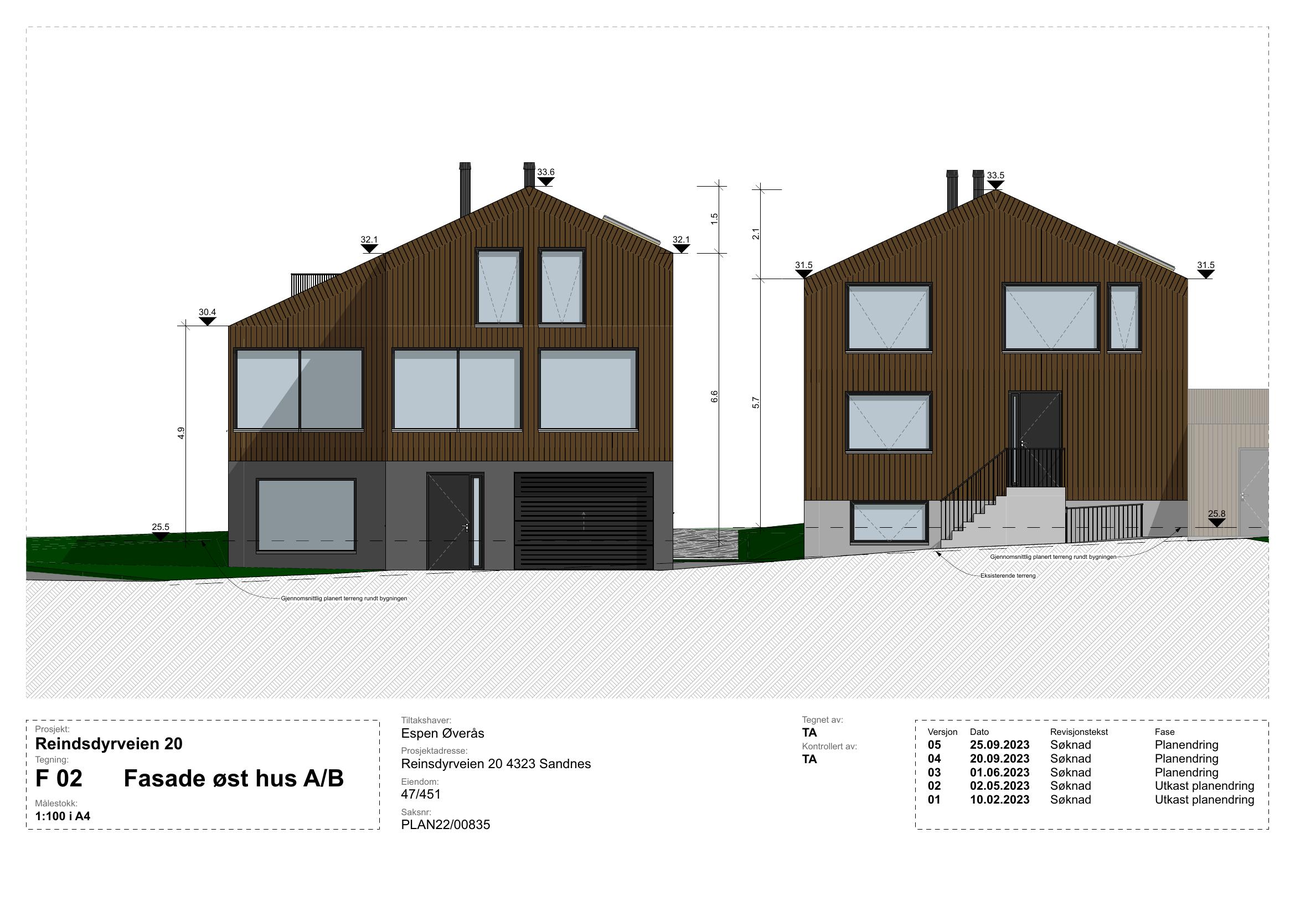fasade: (735, 168, 1270, 570), (225, 160, 678, 585)
